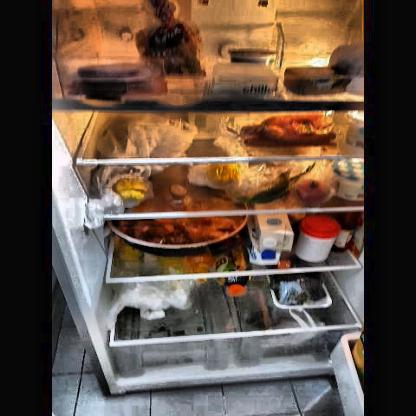broccoli: (272, 276, 326, 306)
butter: (284, 66, 348, 92)
carrot: (246, 115, 334, 146)
cheese: (209, 64, 276, 97)
green_chillies: (232, 178, 292, 205)
lemon: (111, 176, 150, 202), (208, 162, 238, 189)
milk: (248, 213, 292, 262)
